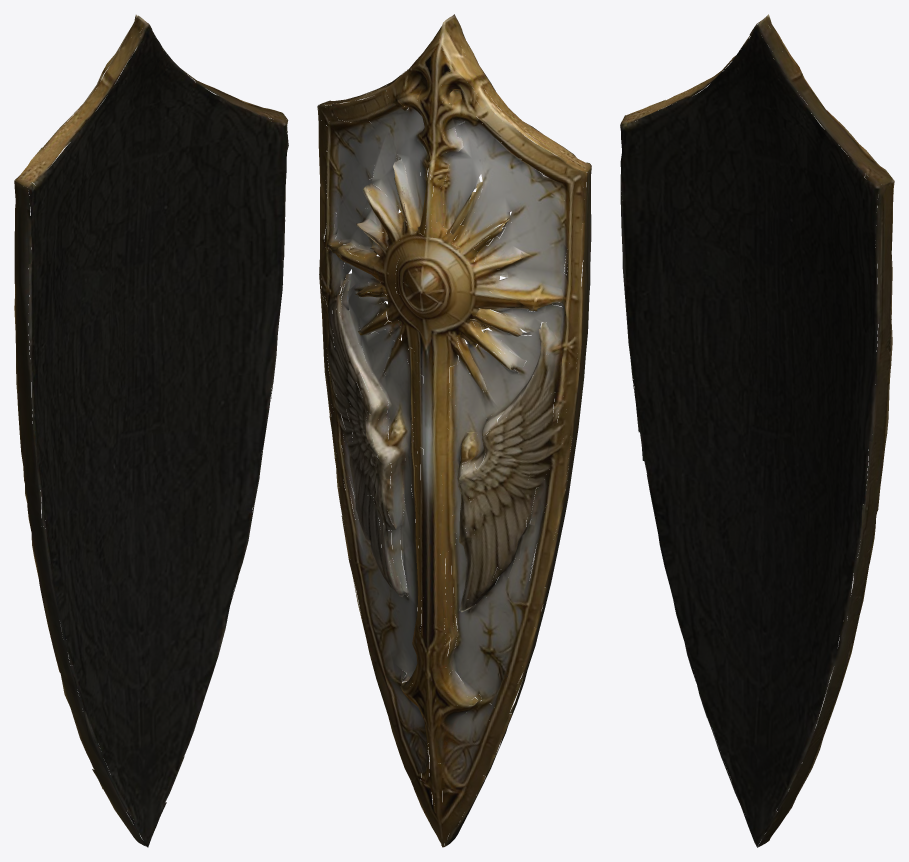
File: kite_sun.glb
3 renders of one model, left to right at view 1: azimuth 30°, elevation 25°; view 2: azimuth 150°, elevation 25°; view 3: azimuth 330°, elevation 25°, orthographic.
Visible parts, largest first — view 1: kite_sun; view 2: kite_sun; view 3: kite_sun.
Boxes of the visible parts, box(x1,y1,x2,y2) form: kite_sun: box(14, 14, 288, 847); kite_sun: box(317, 14, 591, 847); kite_sun: box(620, 14, 894, 847).
Size of the model in its own units: 0.336 by 0.983 by 0.0994.
1 material, 1 textured.
